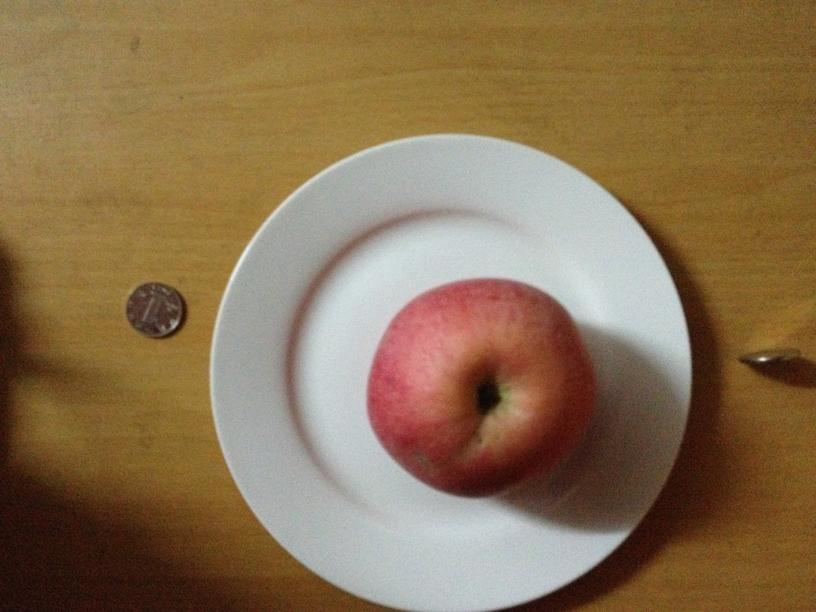apple: (369, 277, 595, 500)
coin: (124, 280, 186, 336)
